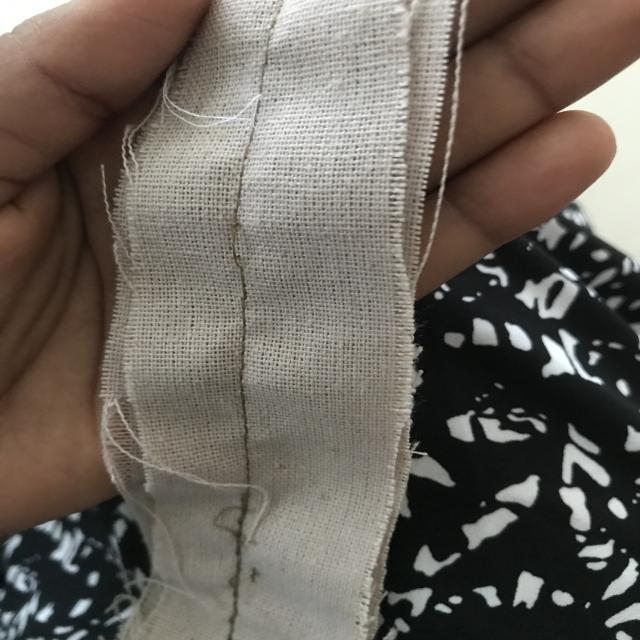skip: (215, 205, 264, 292)
